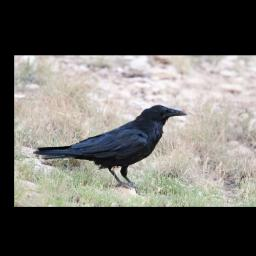Crow: (32, 104, 188, 192)
